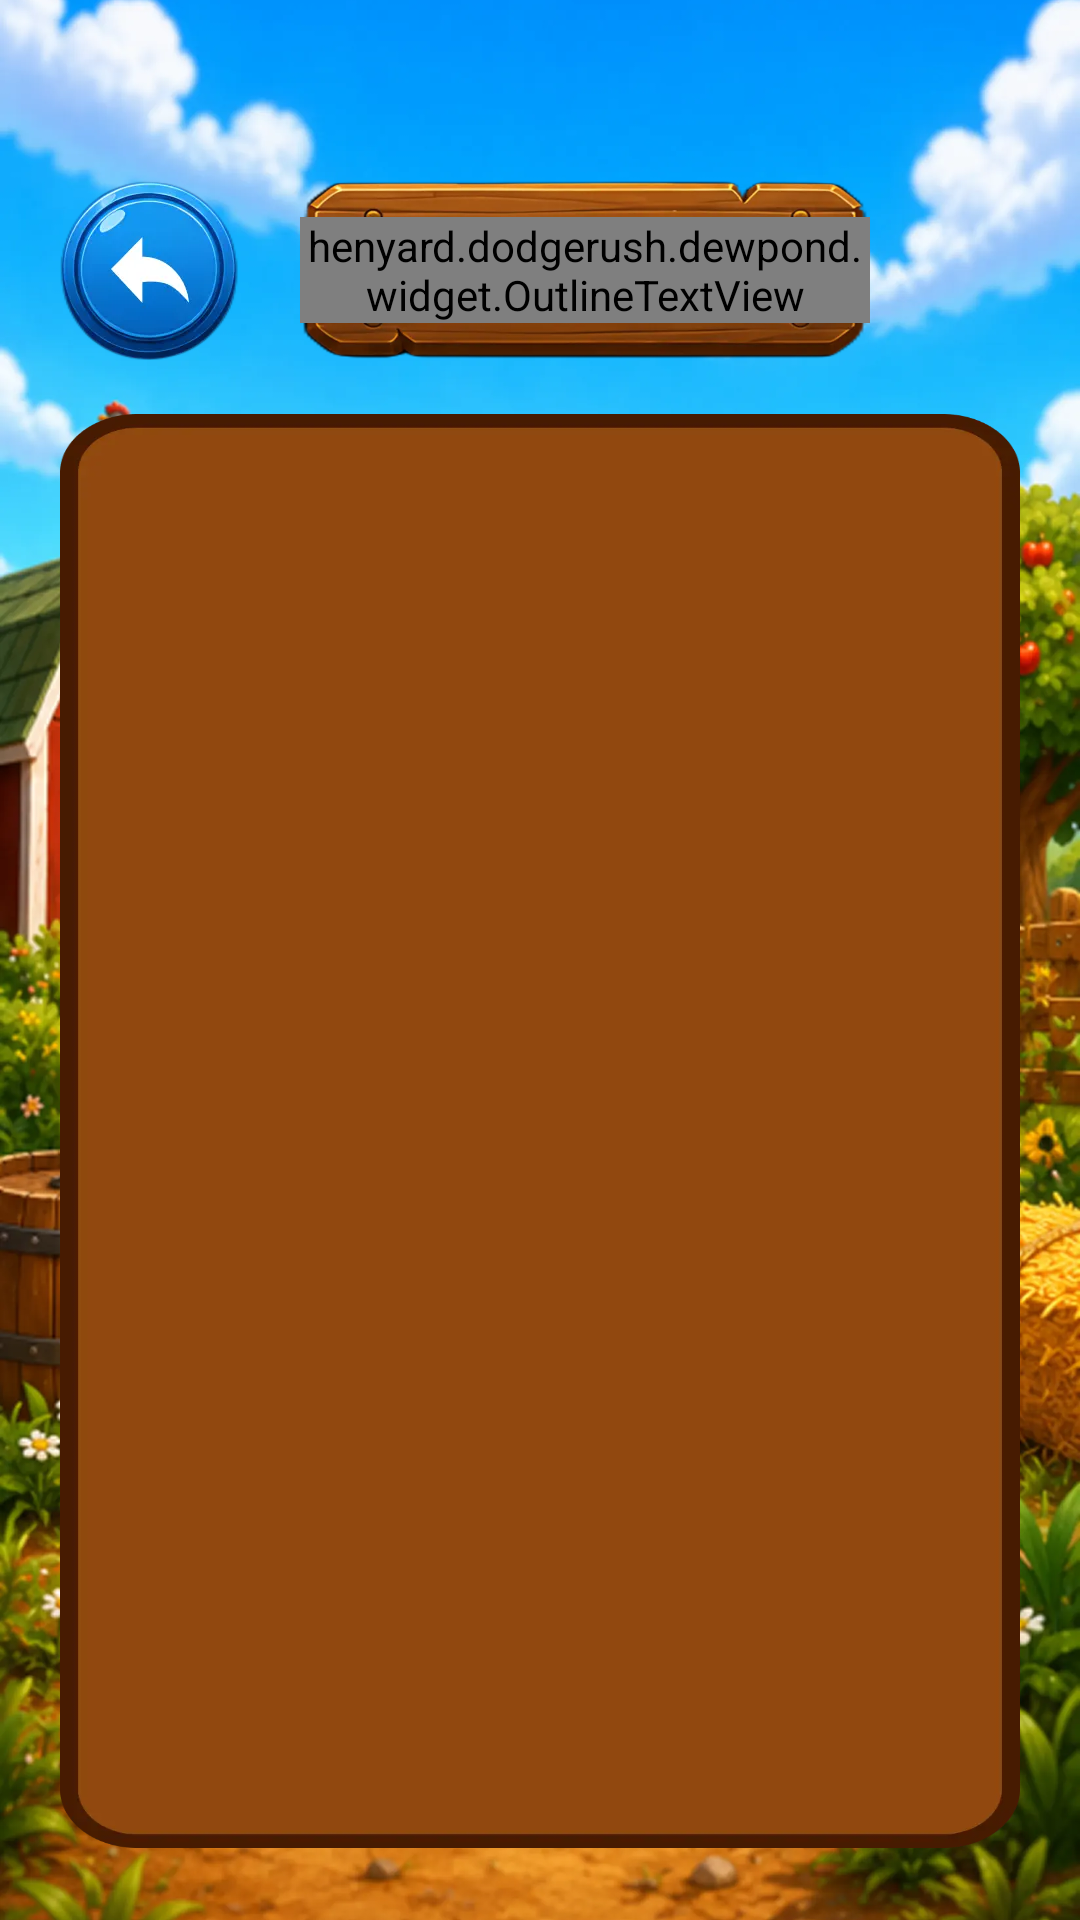

Locate icon controls on the screen. Image size 1080 × 1920, boxes as (x1, y1, x2, y2).
Back: (60, 180, 240, 360)
